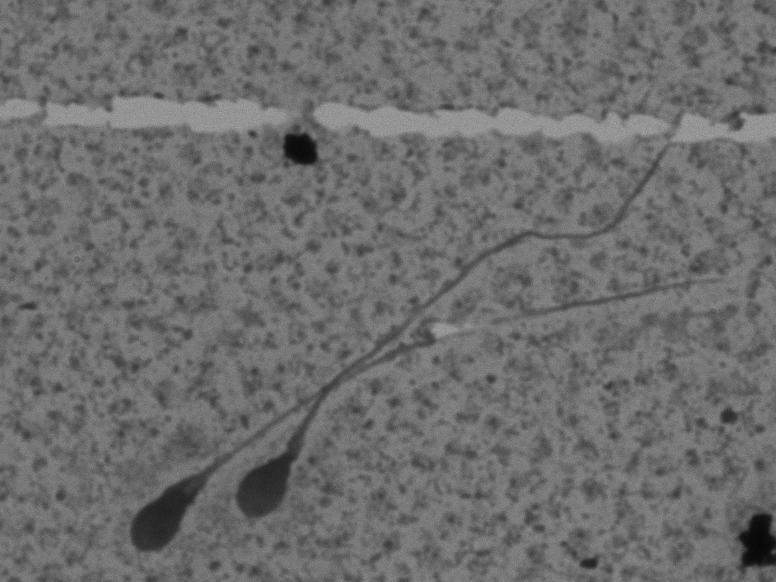Abnormal: (214, 139, 682, 543), (115, 269, 740, 561)
